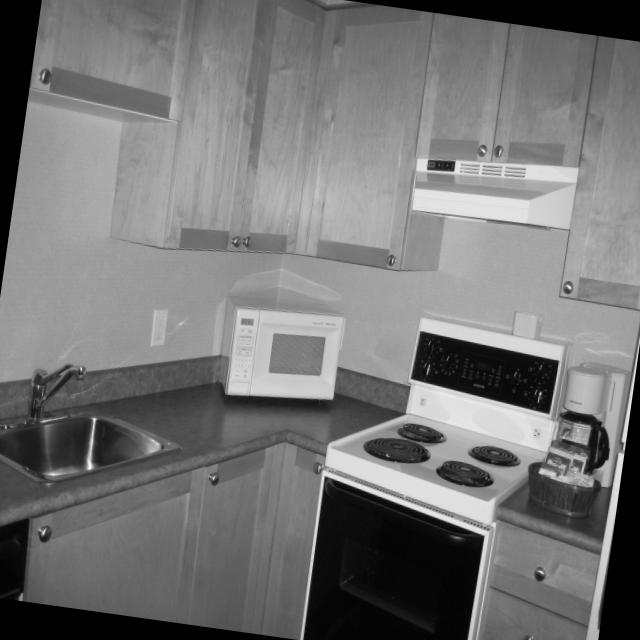microwave oven: (219, 297, 344, 400)
outlet: (151, 309, 168, 347)
sink basin: (0, 409, 182, 489)
